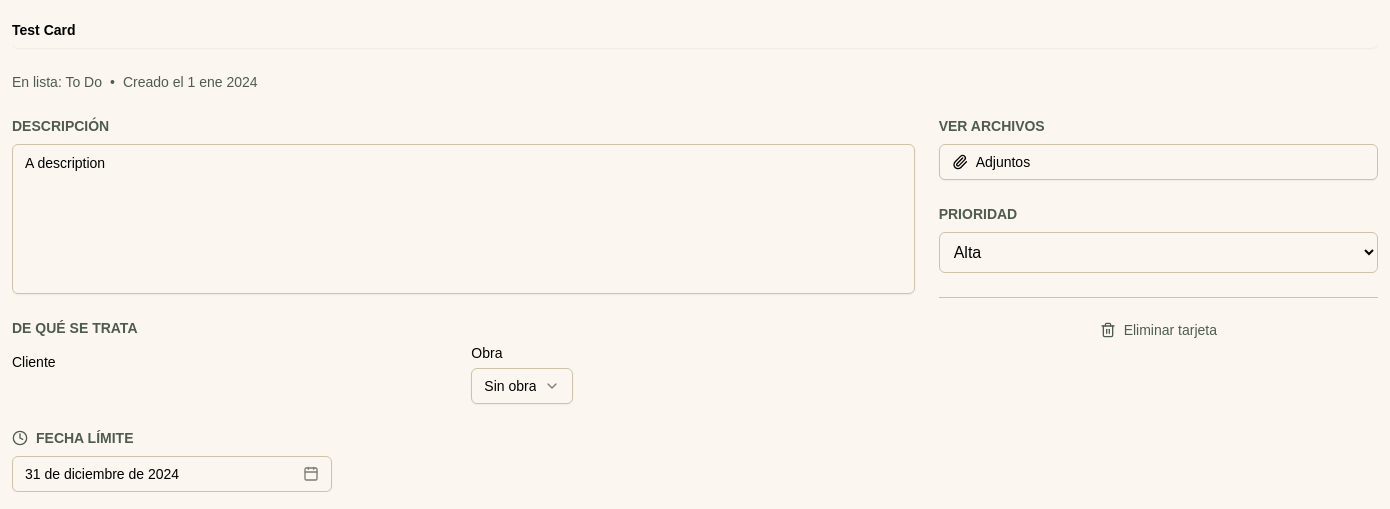
Test case: CardForm › hides delete confirmation on cancel
Click the button "Eliminar tarjeta" at (1158, 330), box x1=939 y1=314 x2=1378 y2=346
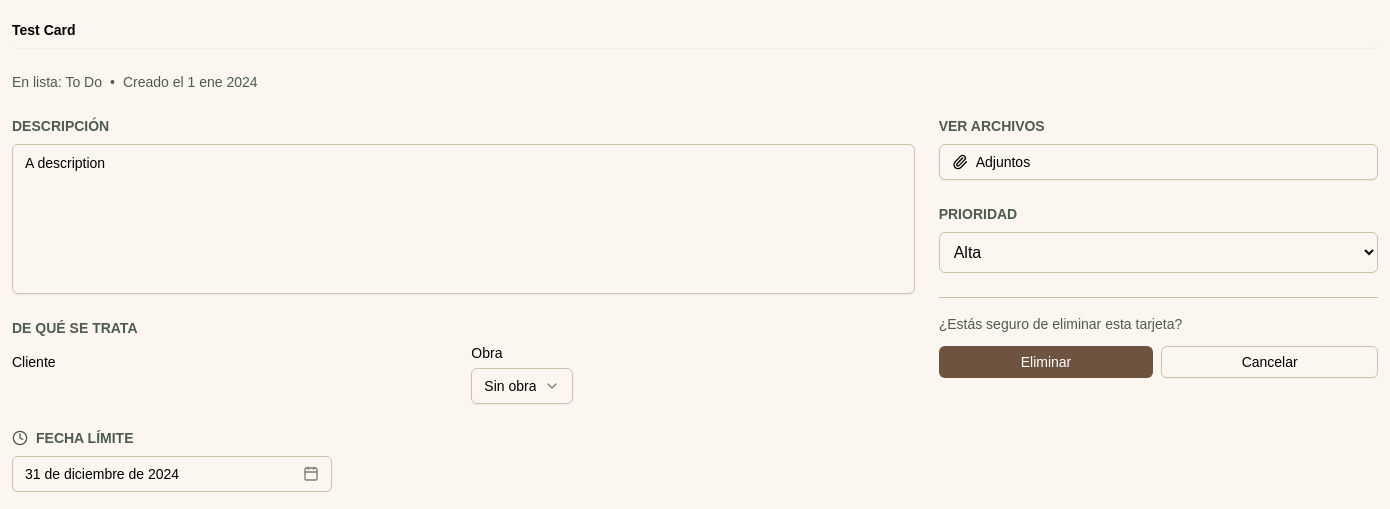
Click the button "Cancelar" at (1270, 362), box x1=1161 y1=346 x2=1378 y2=378
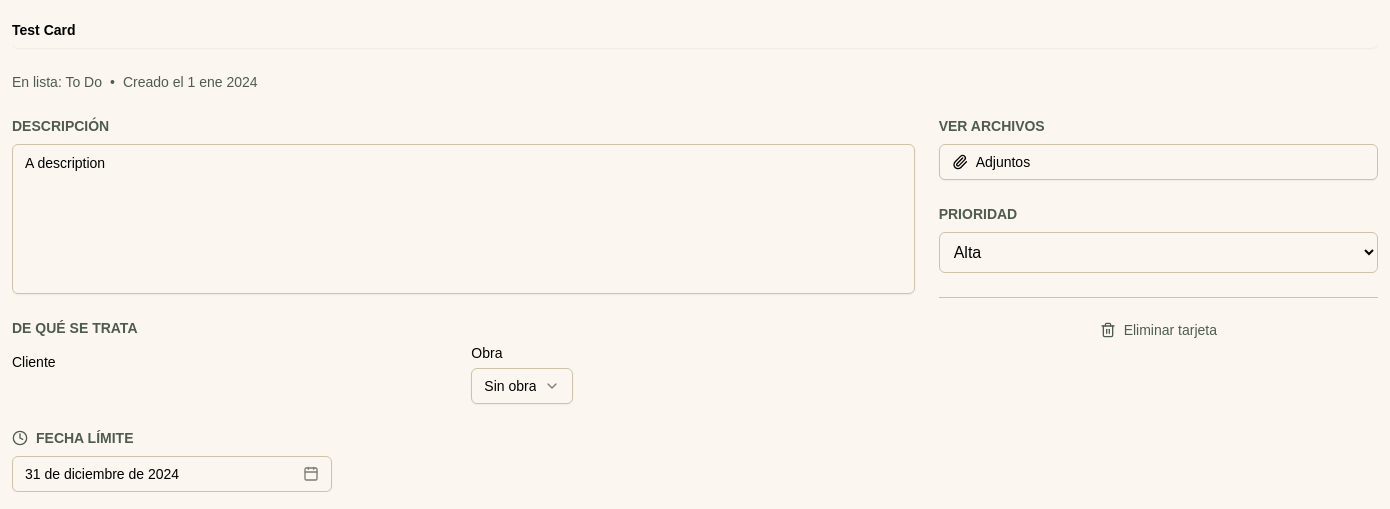
Result: the text "¿Estás seguro de eliminar esta tarjeta?" is gone
